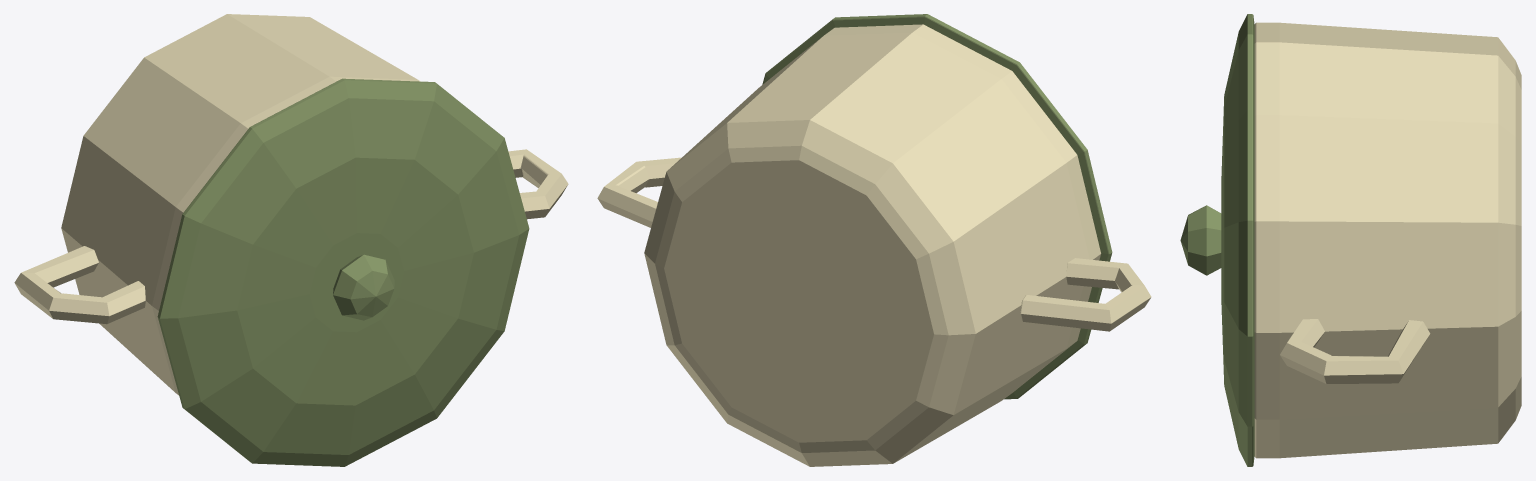
File: saucepan.glb
3 views of the same model, side by side, from view 1: azimuth 30°, elevation 25°; view 2: azimuth 150°, elevation 25°; view 3: azimuth 270°, elevation 25° (orthographic). The views are drawn at different scales.
Parts seen in each view (by area): view 1: saucepan; view 2: saucepan; view 3: saucepan.
Boxes of the visible parts, <box> form: saucepan: <box>14,14,568,466</box>; saucepan: <box>597,14,1151,466</box>; saucepan: <box>1180,14,1521,466</box>.
Size of the model in its own units: 0.2193 by 0.156 by 0.117.
